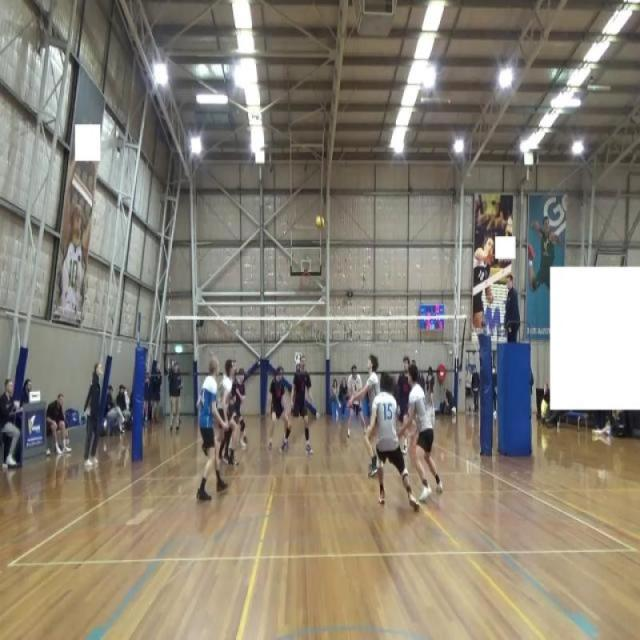volleyball: (314, 214, 326, 232)
